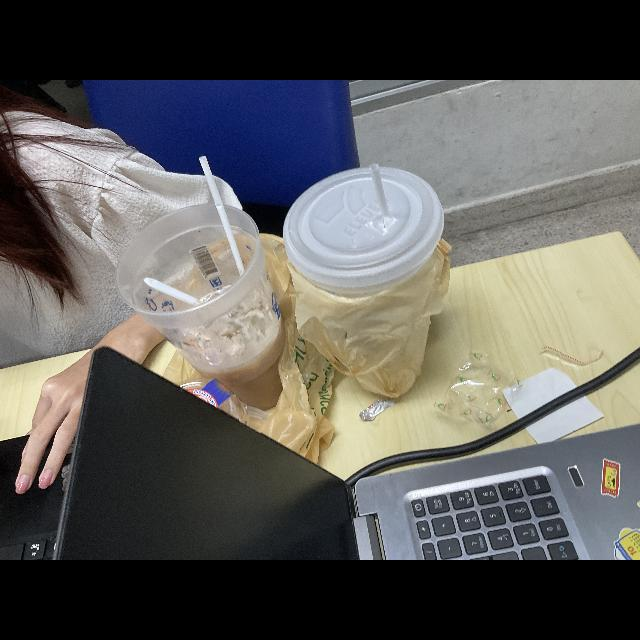plastic_bag: (162, 230, 342, 470), (292, 238, 450, 400)
plastic_cultery: (196, 154, 250, 282)
plastic_cup: (112, 198, 290, 412)
plastic_cup_lid: (279, 164, 446, 296)
scrap_paper: (502, 364, 606, 448)
scrap_plastic: (436, 346, 522, 439), (358, 390, 404, 428)
straw: (142, 274, 200, 306), (369, 161, 395, 219)
